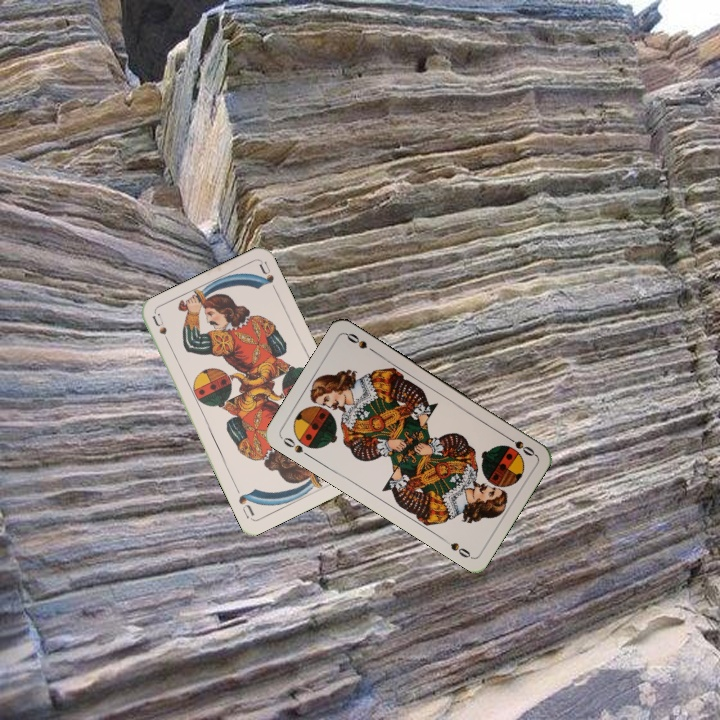SO: (501, 431, 538, 459), (279, 433, 314, 460)
SU: (149, 310, 174, 350)
